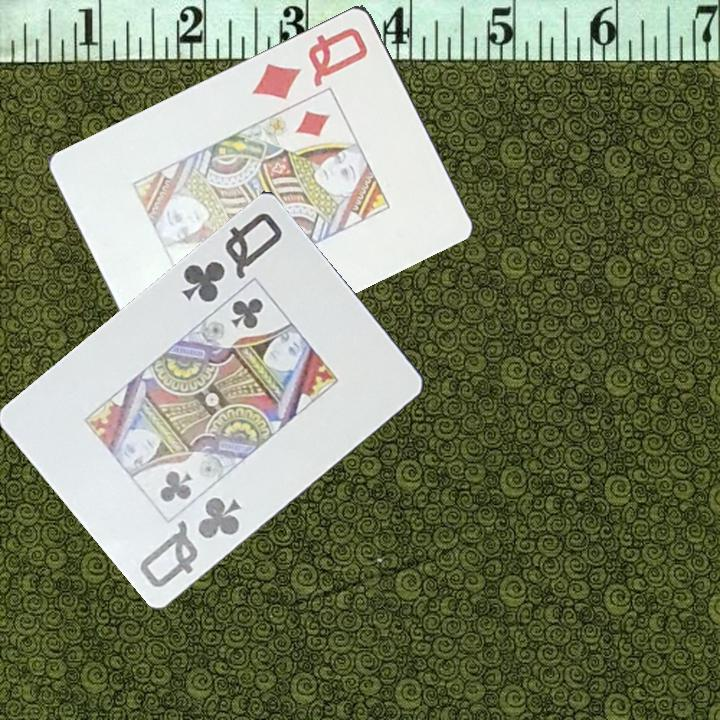Qc: (136, 492, 245, 592), (177, 208, 286, 305)
Qd: (249, 23, 371, 103)
